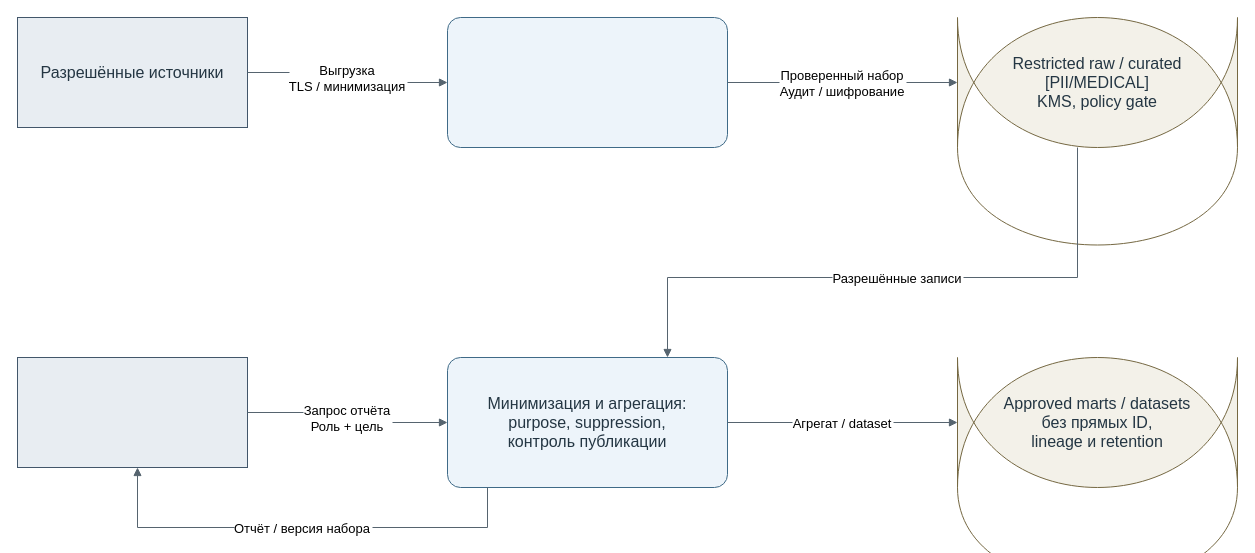
This 1255x553 diagram has some shape labels left out. Each missing label, with the box of its shape:
Аналитик / ML-инженер: (16, 356, 248, 468)
Закрытый ingress: AV/OCR, schema drift, классификация до загрузки: (446, 16, 728, 148)
